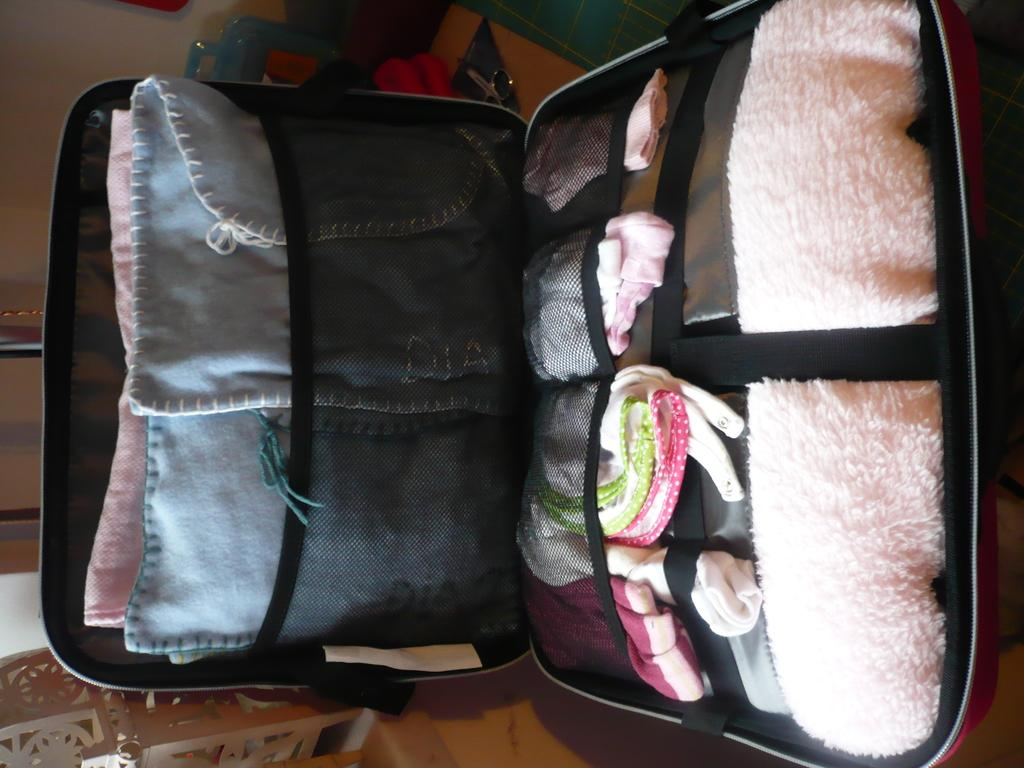Luggage-and-bags: (37, 0, 1023, 767)
